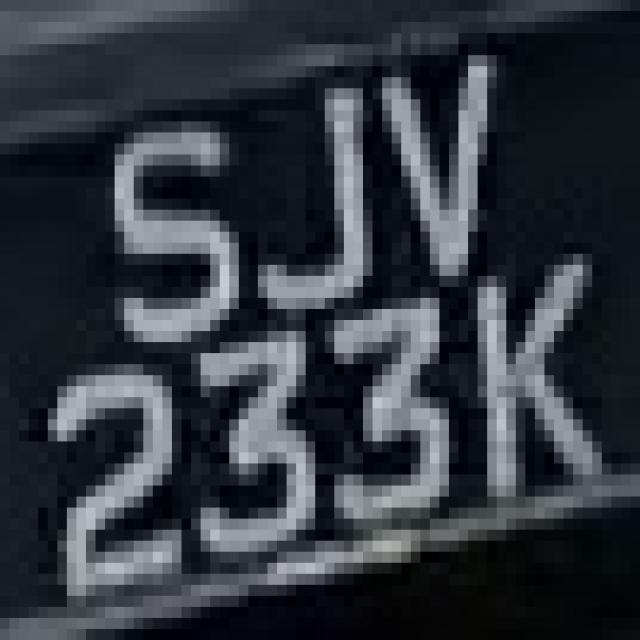2: (57, 353, 201, 607)
3: (296, 265, 459, 585), (182, 298, 315, 563)
J: (239, 88, 382, 320)
K: (458, 221, 612, 518)
S: (86, 110, 248, 376)
V: (363, 22, 525, 276)
